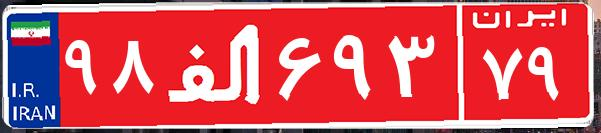3: (385, 28, 445, 110)
6: (273, 28, 330, 110)
7: (475, 38, 525, 113)
8: (110, 28, 158, 105)
9: (330, 28, 385, 110), (57, 26, 110, 107), (525, 38, 570, 115)
الف: (158, 15, 273, 115)
